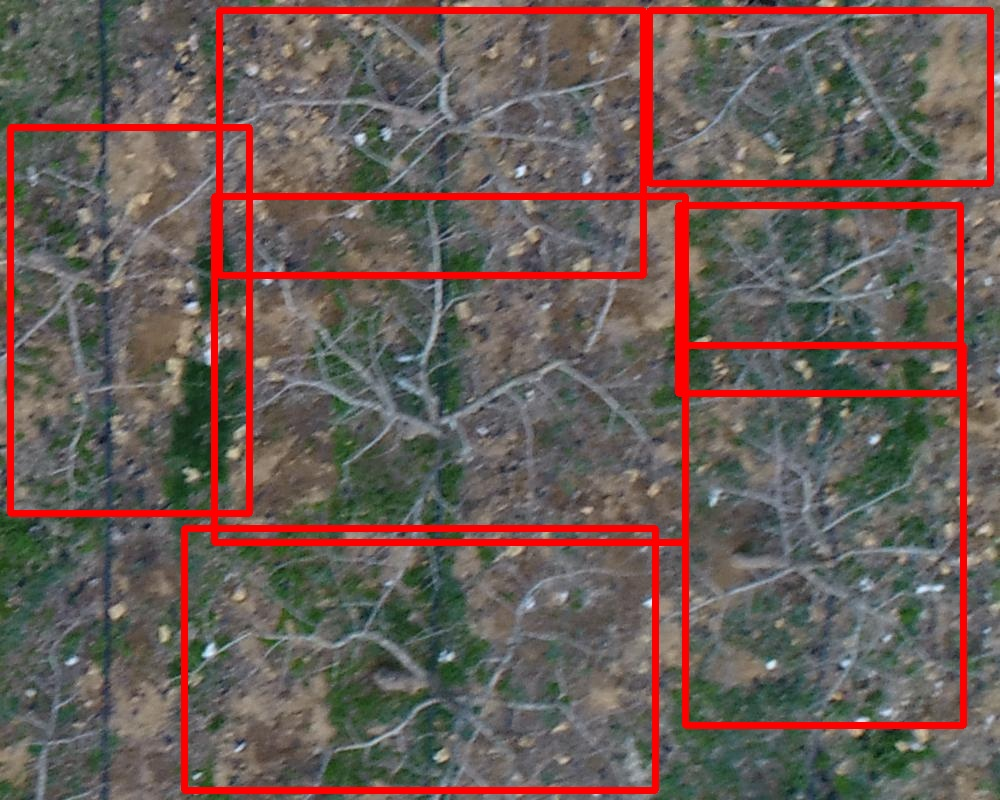apple: (214, 196, 685, 542), (184, 528, 655, 790), (219, 10, 643, 275), (685, 345, 963, 725), (10, 127, 249, 513), (649, 10, 990, 183), (678, 205, 960, 393)
